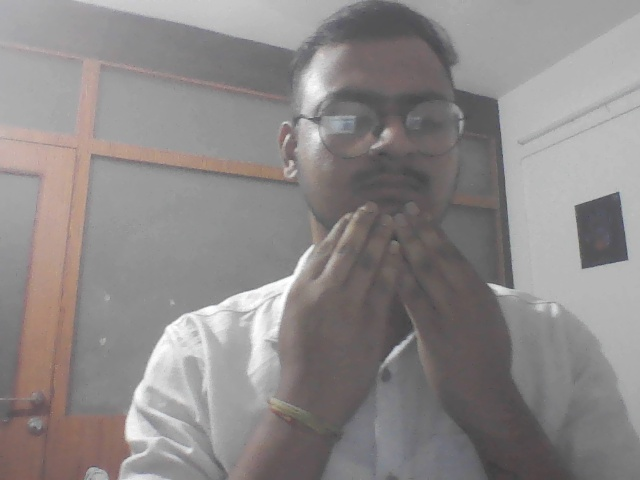ThankYou: (272, 201, 519, 426)
